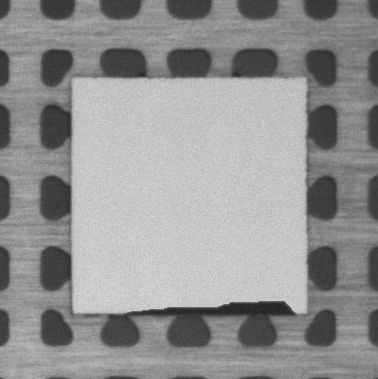DIE_BROKEN: (129, 298, 297, 317)
